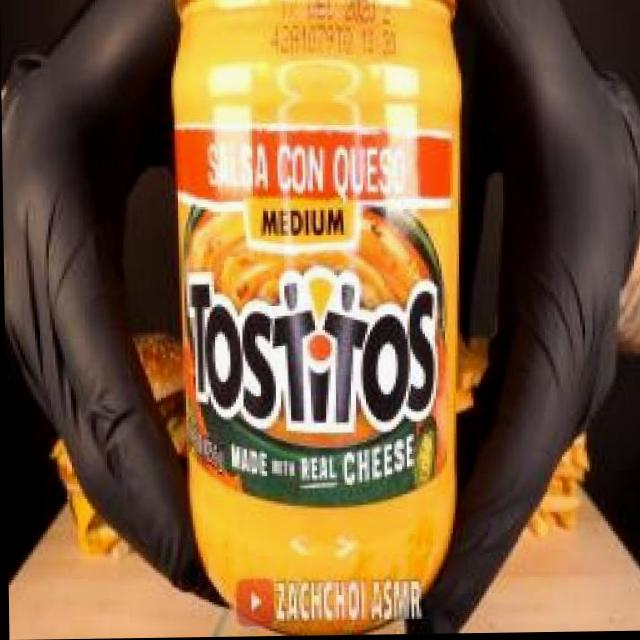tostitos cheese dip sauce: (170, 0, 467, 618)
